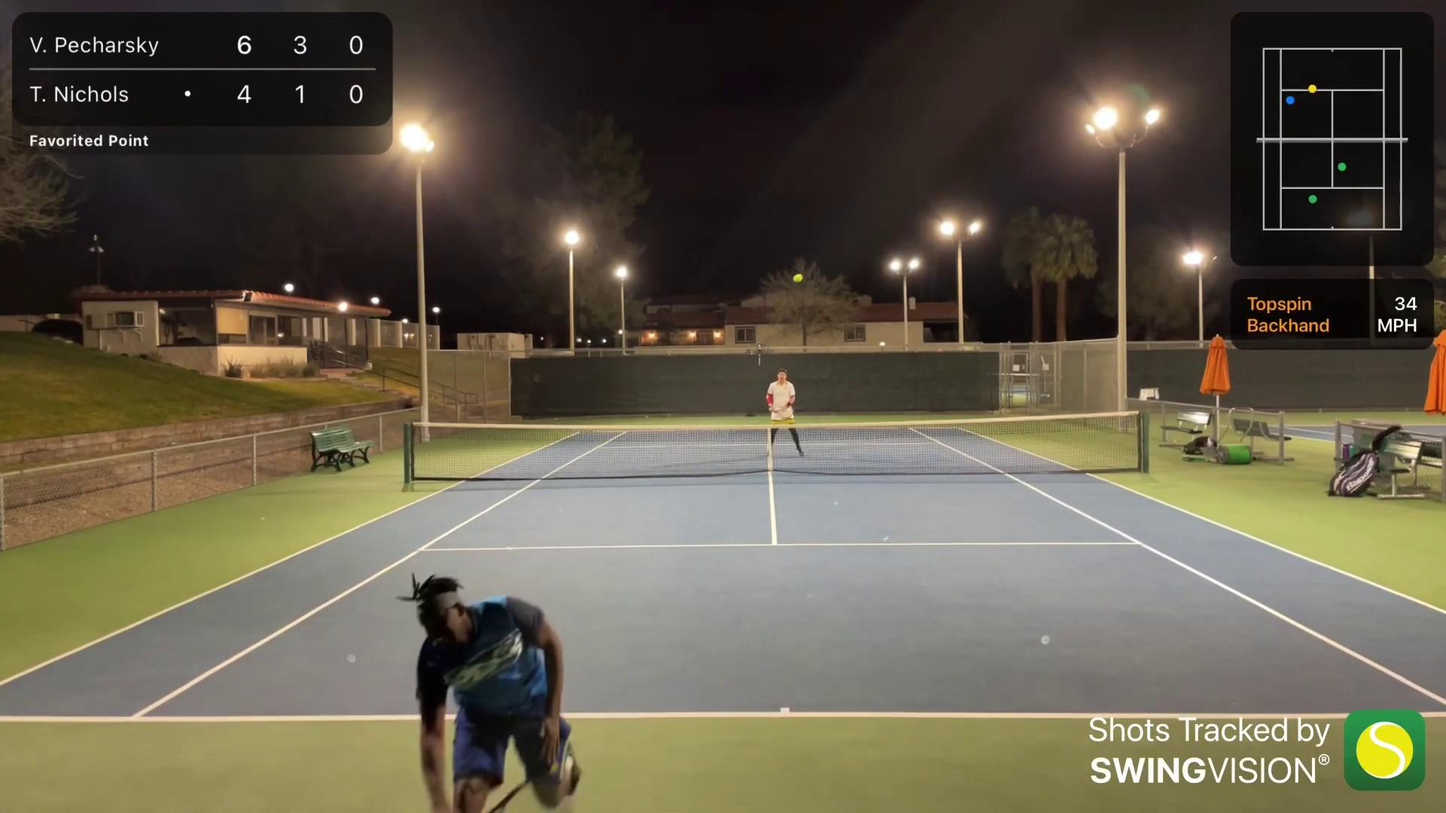ball: (796, 273, 802, 279)
